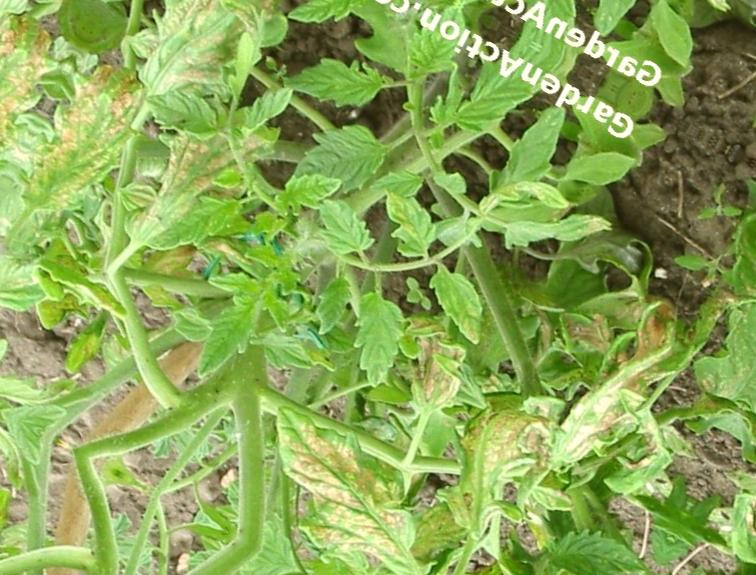Tomato leaf mosaic virus: (281, 102, 394, 222), (148, 161, 258, 278), (496, 176, 610, 288), (282, 26, 396, 127), (183, 272, 271, 393), (485, 97, 574, 210), (325, 284, 420, 389), (412, 257, 503, 344), (539, 506, 650, 575), (140, 77, 236, 154), (368, 178, 452, 259), (305, 188, 382, 261), (286, 0, 372, 48)
